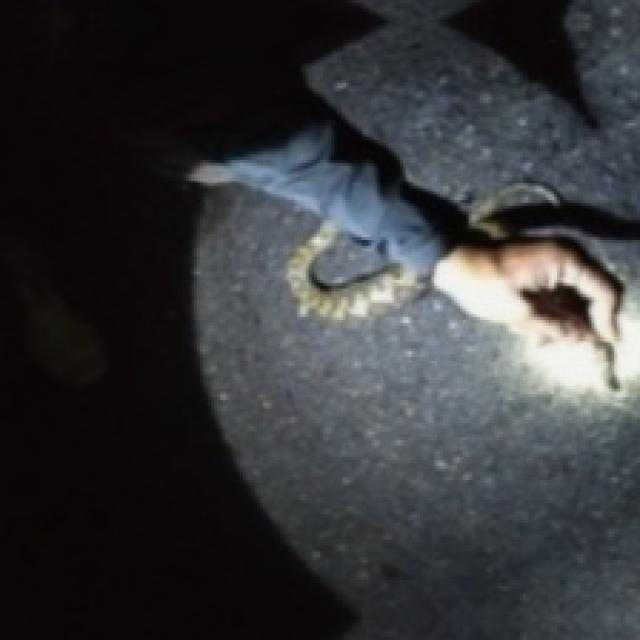reticulated python: (286, 221, 430, 321), (472, 182, 561, 226)
